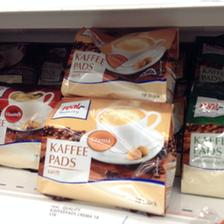Kaffee: (36, 96, 176, 216), (60, 28, 178, 100), (0, 84, 54, 168)
